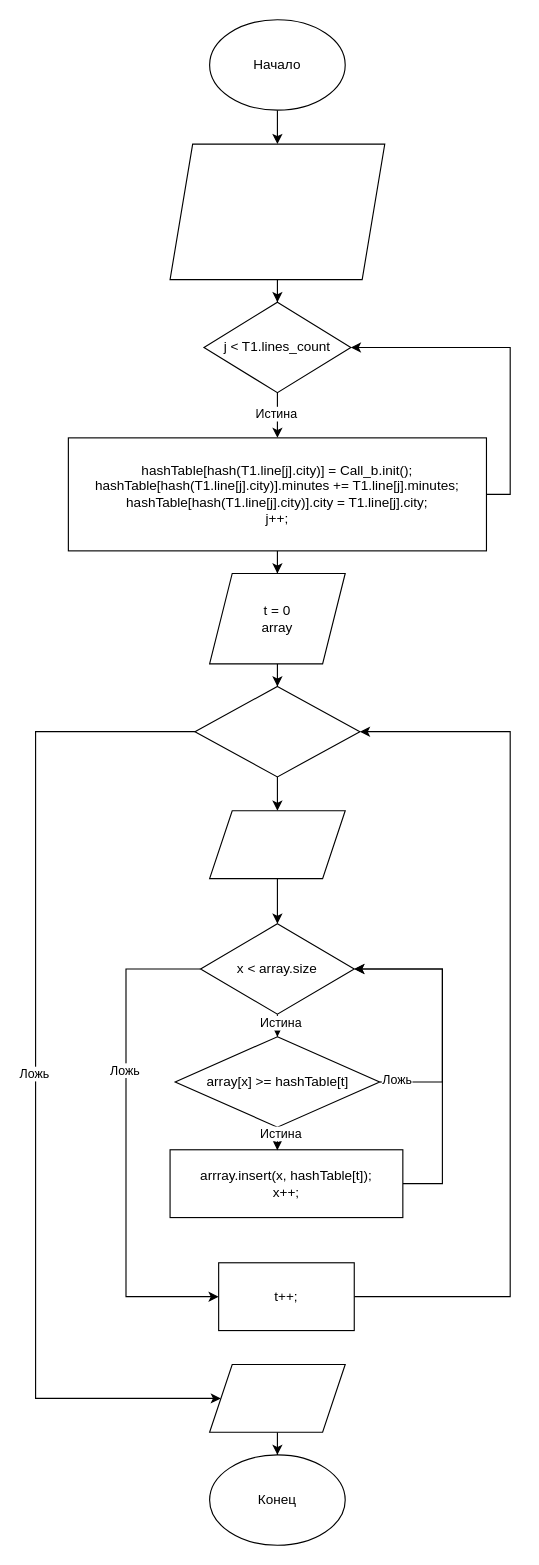
This 539x1565 diagram has some shape labels left out. Each missing label, with the centre of its shape:
"array" goes at [276,1397].
"FILE T1, T2 Call_b{ city, minutes } hashTable j = 0" goes at [277,211].
"t < hashTable.size" goes at [277,731].
"x = 0" goes at [276,844].
